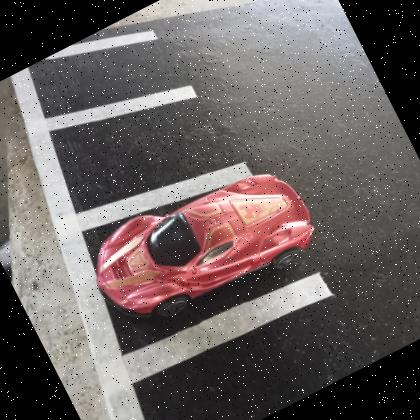Car: (96, 174, 316, 322)
